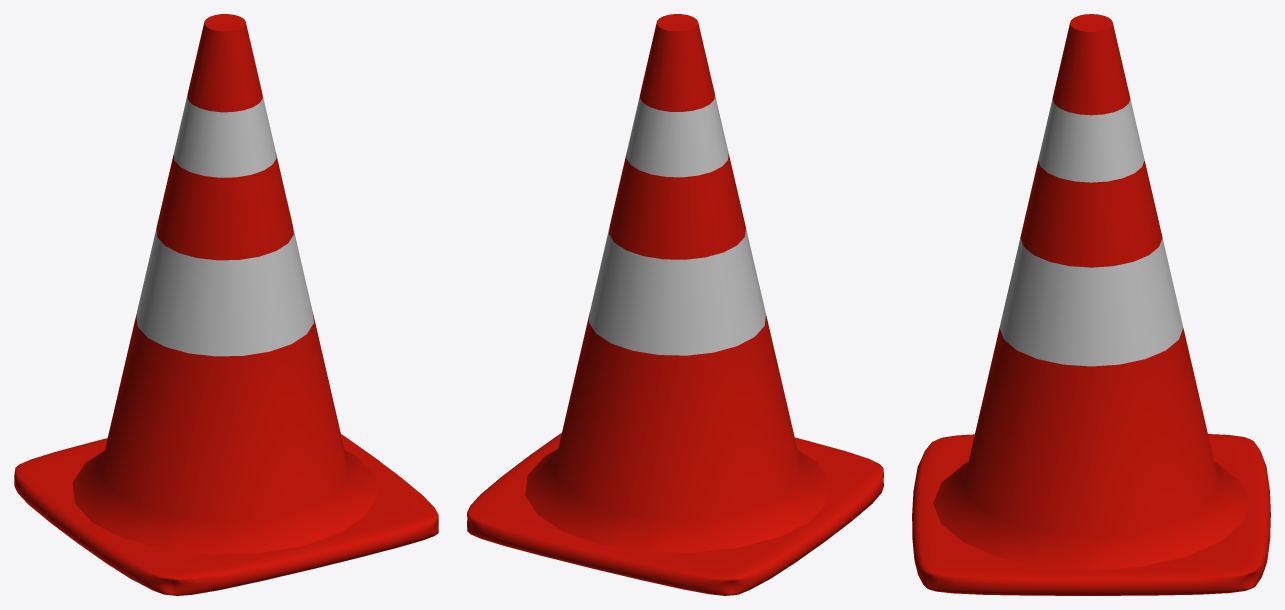
3 views of the same model, side by side, from view 1: azimuth 30°, elevation 25°; view 2: azimuth 150°, elevation 25°; view 3: azimuth 270°, elevation 25° (orthographic). The views are drawn at different scales.
Parts seen in each view (by area): view 1: cone, base; view 2: cone, base; view 3: cone, base.
Part boxes in pixels (box(x1,y1,x2,y2)): cone: box(72, 14, 377, 554); base: box(14, 434, 438, 595); cone: box(525, 14, 829, 552); base: box(467, 433, 883, 595); cone: box(933, 14, 1249, 570); base: box(912, 434, 1270, 595).
Size of the model in its own units: 1.34 by 2.07 by 1.34.
